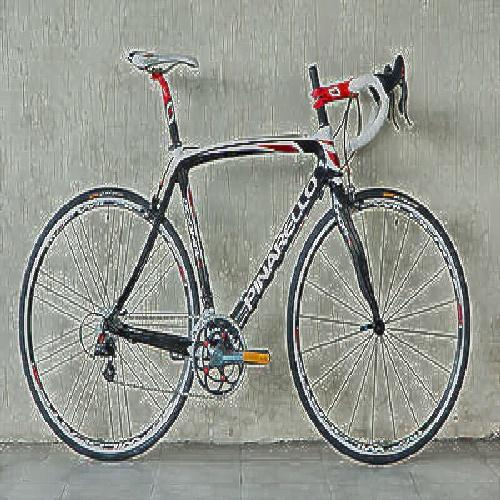bicycle: (14, 46, 473, 466)
